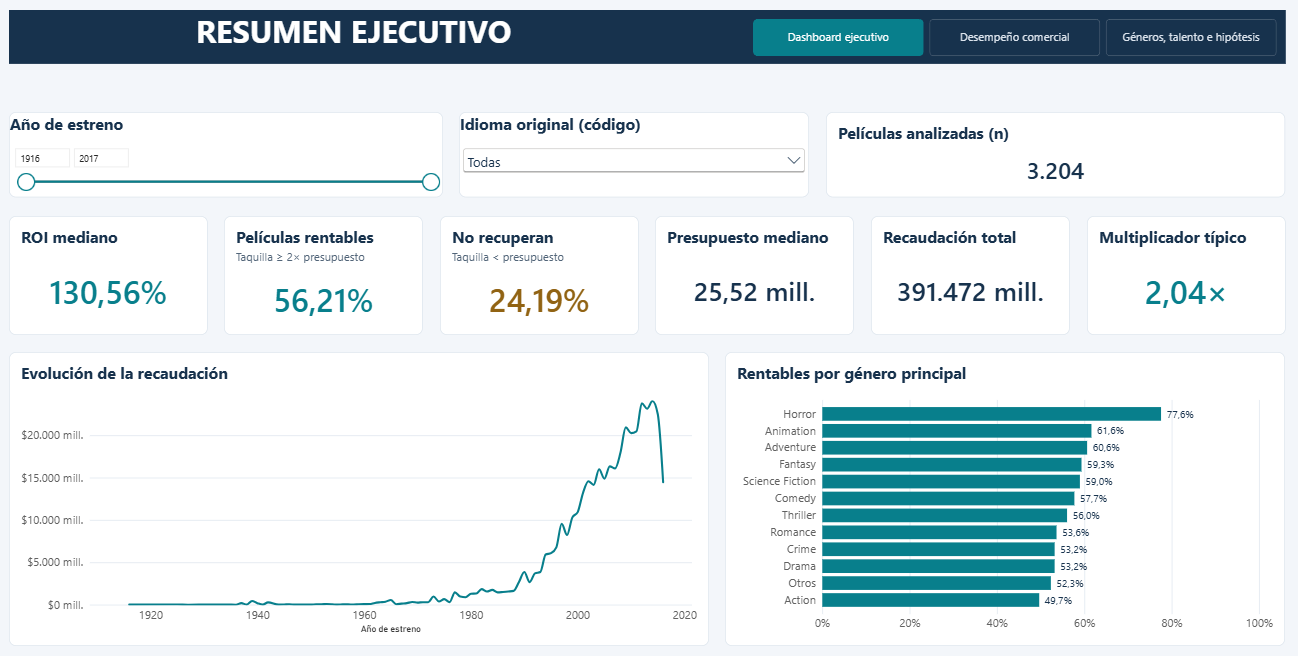

The page's visual inventory and layout, read from the dashboard file:
{"tool":"powerbi","page":{"name":"Dashboard ejecutivo","canvas":[1920,1080],"ordinal":0},"visuals":[{"type":"textbox","box":[48,22,1824,77],"z":0},{"type":"textbox","box":[48,111,1824,43],"z":1},{"type":"slicer","title":"Año de estreno","fields":{"Values":["dim_fecha.anio"]},"box":[48,167,620,122],"z":2},{"type":"slicer","title":"Idioma original (código)","fields":{"Values":["dim_idioma.codigo_idioma"]},"box":[692,167,500,122],"z":3},{"type":"card","title":"Películas analizadas (n)","fields":{"Values":["fact_peliculas.Películas"]},"box":[1216,167,656,122],"z":4},{"type":"card","title":"ROI mediano","fields":{"Values":["fact_peliculas.ROI mediano"]},"box":[48,315,284,170],"z":5},{"type":"card","title":"Películas rentables","fields":{"Values":["fact_peliculas.% rentables"]},"box":[356,315,284,170],"z":6},{"type":"card","title":"No recuperan","fields":{"Values":["fact_peliculas.% no recuperan presupuesto"]},"box":[664,315,284,170],"z":7},{"type":"card","title":"Presupuesto mediano","fields":{"Values":["fact_peliculas.Presupuesto mediano"]},"box":[972,315,284,170],"z":8},{"type":"card","title":"Recaudación total","fields":{"Values":["fact_peliculas.Recaudación total"]},"box":[1280,315,284,170],"z":9},{"type":"card","title":"Multiplicador típico","fields":{"Values":["fact_peliculas.Multiplicador típico"]},"box":[1588,315,284,170],"z":10},{"type":"lineChart","title":"Evolución de la recaudación","fields":{"Category":["dim_fecha.decada","dim_fecha.anio","dim_fecha.nombre_mes"],"Y":["fact_peliculas.Recaudación total"]},"box":[48,510,1000,420],"z":11},{"type":"clusteredBarChart","title":"Rentables por género principal","fields":{"Category":["fact_peliculas.genero_agrupado"],"Y":["fact_peliculas.% rentables"]},"box":[1072,510,800,420],"z":12},{"type":"pageNavigator","box":[1112,34,748,53],"z":5000}]}

Visuals, with their boxes on the page's 1920x1080 design canvas (x1, y1, x2, y2). These are canvas units, not pixel positions in the 1298x656 screenshot, which may show the page scaled, cropped or inside an application window:
textbox: box(48, 22, 1872, 99)
textbox: box(48, 111, 1872, 154)
"Año de estreno" slicer: box(48, 167, 668, 289)
"Idioma original (código)" slicer: box(692, 167, 1192, 289)
"Películas analizadas (n)" card: box(1216, 167, 1872, 289)
"ROI mediano" card: box(48, 315, 332, 485)
"Películas rentables" card: box(356, 315, 640, 485)
"No recuperan" card: box(664, 315, 948, 485)
"Presupuesto mediano" card: box(972, 315, 1256, 485)
"Recaudación total" card: box(1280, 315, 1564, 485)
"Multiplicador típico" card: box(1588, 315, 1872, 485)
"Evolución de la recaudación" lineChart: box(48, 510, 1048, 930)
"Rentables por género principal" clusteredBarChart: box(1072, 510, 1872, 930)
pageNavigator: box(1112, 34, 1860, 87)
